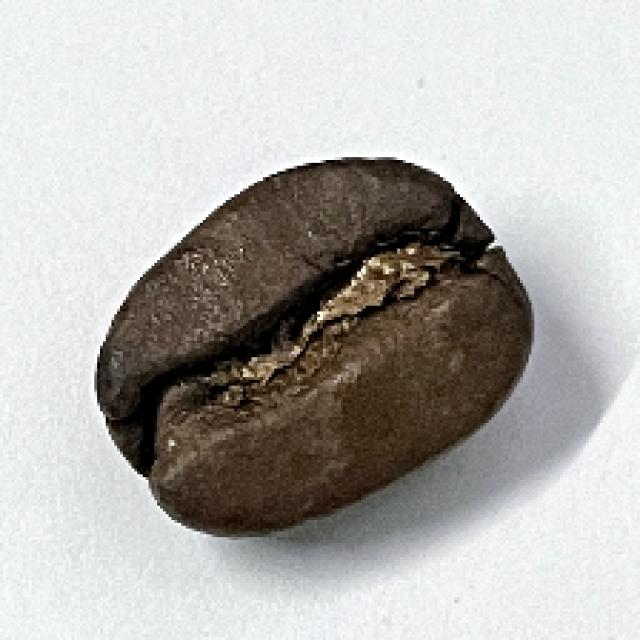bean: (94, 154, 538, 541)
